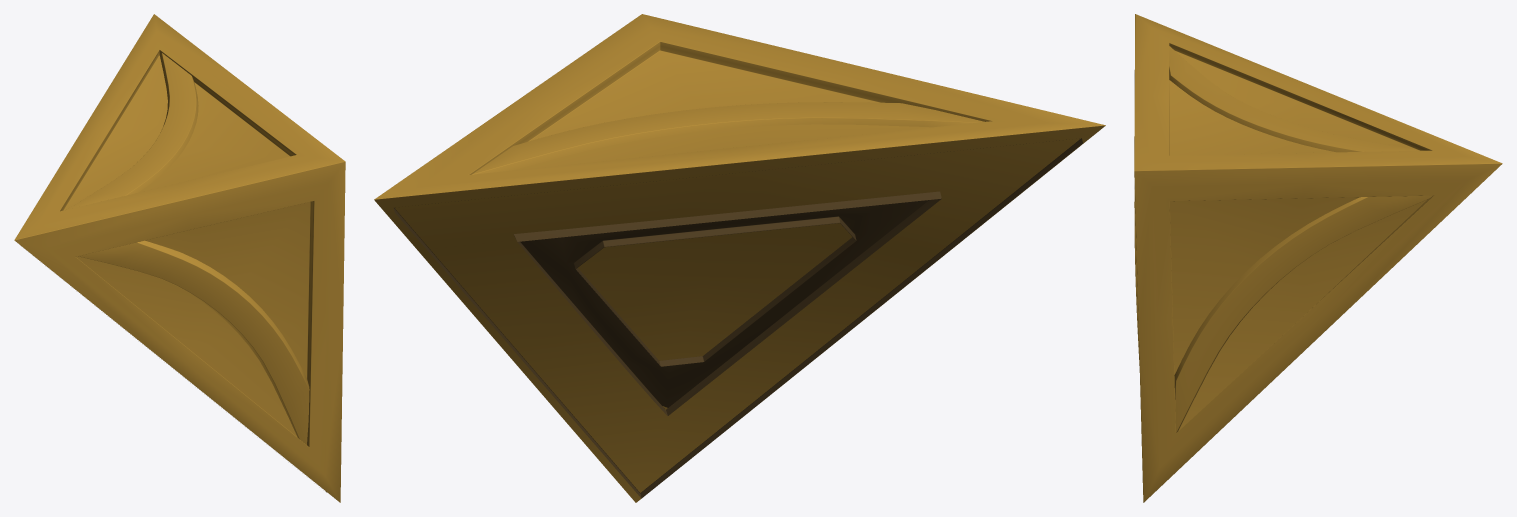
The model's file is Holocron_Esquina_SupDerFre.obj.
The picture shows the model from 3 angles, left to right: view 1: azimuth 30°, elevation 25°; view 2: azimuth 150°, elevation 25°; view 3: azimuth 270°, elevation 25°; orthographic projection. The views are drawn at different scales.
Visible parts, largest first — view 1: Holocron_Esquina_SupDerFre; view 2: Holocron_Esquina_SupDerFre; view 3: Holocron_Esquina_SupDerFre.
Boxes of the visible parts, bbox=[...] form: Holocron_Esquina_SupDerFre: bbox=[14, 14, 345, 502]; Holocron_Esquina_SupDerFre: bbox=[374, 14, 1105, 502]; Holocron_Esquina_SupDerFre: bbox=[1134, 14, 1502, 502].
Bounding box in the file's own units: 5.12 × 5.21 × 5.13.
